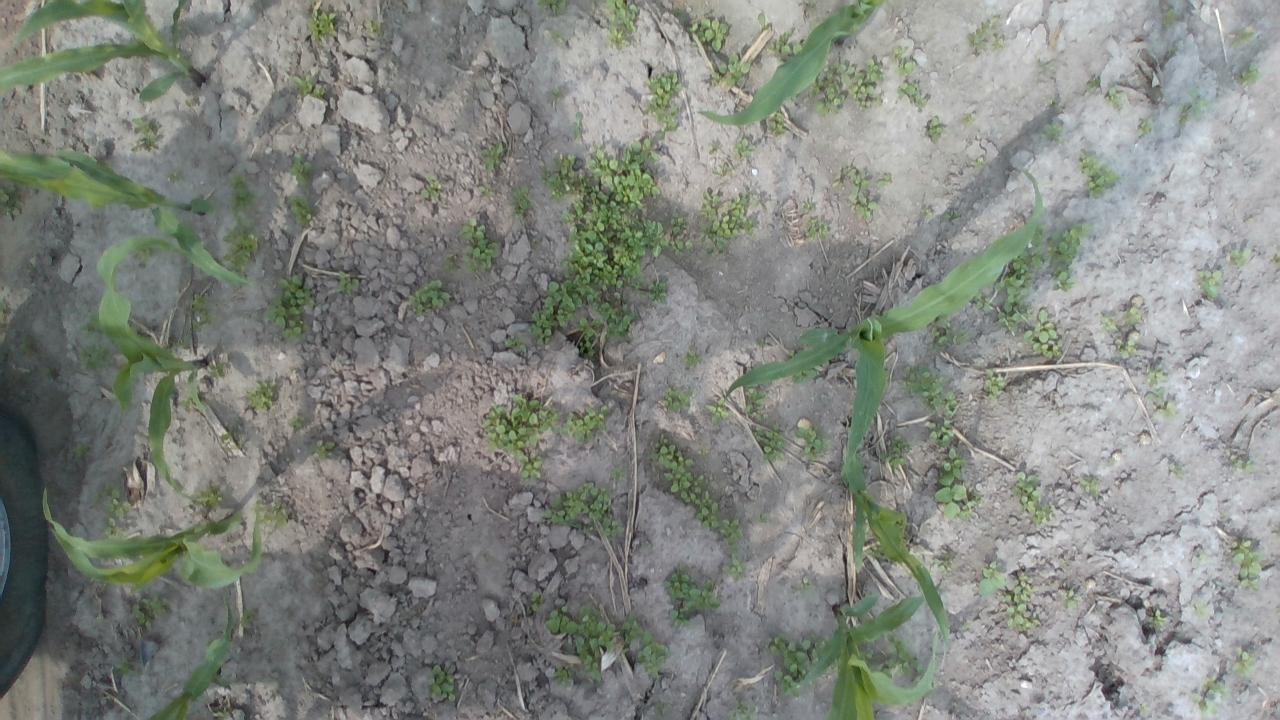Maize: (722, 170, 1044, 473), (0, 142, 250, 290), (81, 236, 215, 507), (699, 0, 886, 127), (838, 439, 951, 649), (38, 486, 261, 588), (791, 577, 944, 720), (0, 0, 204, 105), (138, 596, 238, 720)
Weeds: (558, 184, 670, 294), (650, 432, 720, 528), (590, 136, 661, 210), (482, 393, 562, 456), (766, 633, 840, 698), (544, 481, 625, 538), (697, 191, 758, 256), (527, 279, 583, 346), (263, 274, 315, 344), (933, 446, 982, 520), (662, 567, 721, 628), (575, 608, 620, 682), (996, 251, 1036, 332), (642, 70, 682, 136), (219, 220, 264, 276), (838, 57, 883, 112), (586, 290, 632, 342), (459, 217, 500, 272), (538, 152, 586, 198), (1004, 574, 1042, 630), (878, 634, 926, 678), (1230, 538, 1266, 592), (1024, 308, 1061, 359), (1078, 152, 1117, 200), (904, 366, 944, 412), (562, 404, 608, 444), (604, 0, 640, 51), (719, 517, 747, 581), (1048, 223, 1090, 264), (809, 71, 846, 117), (686, 16, 731, 52), (126, 592, 170, 628), (408, 279, 450, 316), (94, 480, 132, 519), (929, 317, 968, 354), (1009, 470, 1041, 514), (968, 14, 1004, 52), (712, 53, 752, 87), (226, 174, 256, 218), (878, 435, 913, 472), (753, 424, 786, 463), (637, 642, 670, 680), (766, 30, 802, 64), (252, 498, 290, 530), (620, 610, 654, 645), (1144, 387, 1179, 421), (795, 426, 826, 464), (306, 8, 338, 44), (978, 560, 1008, 597), (429, 664, 457, 703), (79, 344, 117, 371), (743, 382, 768, 422), (544, 605, 576, 636), (287, 153, 318, 185), (508, 184, 536, 219), (896, 80, 928, 109), (661, 385, 691, 414), (244, 382, 274, 411), (286, 195, 314, 226), (132, 116, 160, 147), (0, 180, 22, 219), (514, 449, 542, 479), (981, 368, 1006, 401), (925, 419, 952, 449), (479, 144, 507, 172), (292, 75, 326, 98), (1198, 270, 1224, 300), (578, 317, 598, 356), (893, 46, 917, 78), (190, 294, 210, 332), (640, 281, 670, 305), (1188, 88, 1210, 120), (1030, 224, 1046, 268), (1202, 674, 1230, 699), (1231, 648, 1256, 676), (704, 397, 728, 426), (852, 192, 878, 218), (1114, 332, 1138, 360), (194, 487, 224, 508), (792, 363, 821, 384), (1051, 264, 1074, 290), (726, 701, 757, 720), (552, 662, 576, 686), (79, 310, 101, 336), (336, 270, 358, 296), (1238, 62, 1260, 87), (420, 176, 441, 202), (534, 0, 568, 16), (1040, 122, 1064, 144), (806, 218, 830, 240), (844, 167, 868, 189), (114, 657, 139, 677), (310, 439, 336, 458), (734, 138, 756, 160), (974, 291, 994, 313), (102, 517, 124, 537), (504, 334, 526, 354), (926, 116, 944, 140), (671, 240, 695, 258), (768, 111, 786, 135), (1232, 458, 1258, 474), (943, 391, 958, 418), (1034, 506, 1054, 526), (70, 442, 95, 458), (1146, 366, 1168, 384), (1104, 88, 1122, 110), (20, 336, 36, 360), (1148, 608, 1168, 627), (1080, 477, 1100, 496), (1124, 305, 1142, 325), (1230, 248, 1248, 268), (1060, 590, 1080, 608), (526, 592, 542, 614), (684, 350, 702, 368), (669, 216, 687, 234), (132, 246, 152, 262), (1100, 315, 1118, 332), (241, 606, 258, 624), (1192, 693, 1208, 712), (1170, 463, 1186, 481), (944, 208, 962, 224), (1161, 8, 1177, 25), (961, 110, 977, 127), (38, 367, 58, 380), (574, 112, 584, 138), (175, 334, 191, 350), (1137, 120, 1153, 136), (206, 362, 224, 376), (609, 466, 625, 480), (212, 707, 229, 720), (1038, 60, 1056, 72), (1238, 31, 1254, 44), (932, 558, 946, 572), (290, 416, 304, 430), (550, 30, 565, 43), (756, 13, 768, 29), (801, 576, 813, 592), (168, 171, 182, 184), (478, 185, 492, 198), (1194, 601, 1206, 616), (0, 295, 7, 320), (368, 19, 381, 32), (973, 156, 986, 168), (879, 175, 892, 187), (1086, 79, 1100, 90), (960, 623, 975, 632), (548, 87, 560, 98), (758, 512, 769, 524), (1177, 115, 1190, 125), (923, 207, 933, 220), (164, 347, 176, 357), (222, 431, 232, 442), (802, 201, 812, 212), (706, 143, 716, 154)
